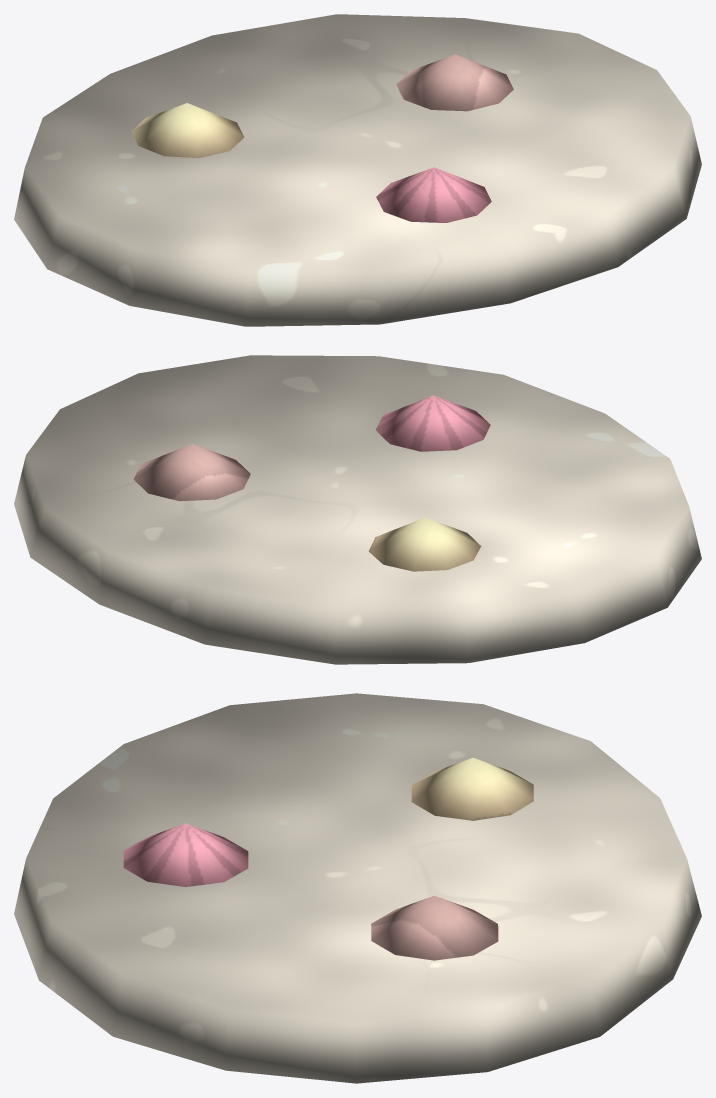
The model's file is shell_path.glb.
3 renders of one model, top to bottom at view 1: azimuth 30°, elevation 25°; view 2: azimuth 150°, elevation 25°; view 3: azimuth 270°, elevation 25°, orthographic. The views are drawn at different scales.
Parts seen in each view (by area): view 1: ShellPath; view 2: ShellPath; view 3: ShellPath.
Part boxes in pixels (<box>): ShellPath: <box>14,14,701,326</box>; ShellPath: <box>14,355,701,664</box>; ShellPath: <box>14,693,701,1083</box>.
Bounding box in the file's own units: 1.04 × 0.1319 × 0.8849.
1 material, 1 textured.
